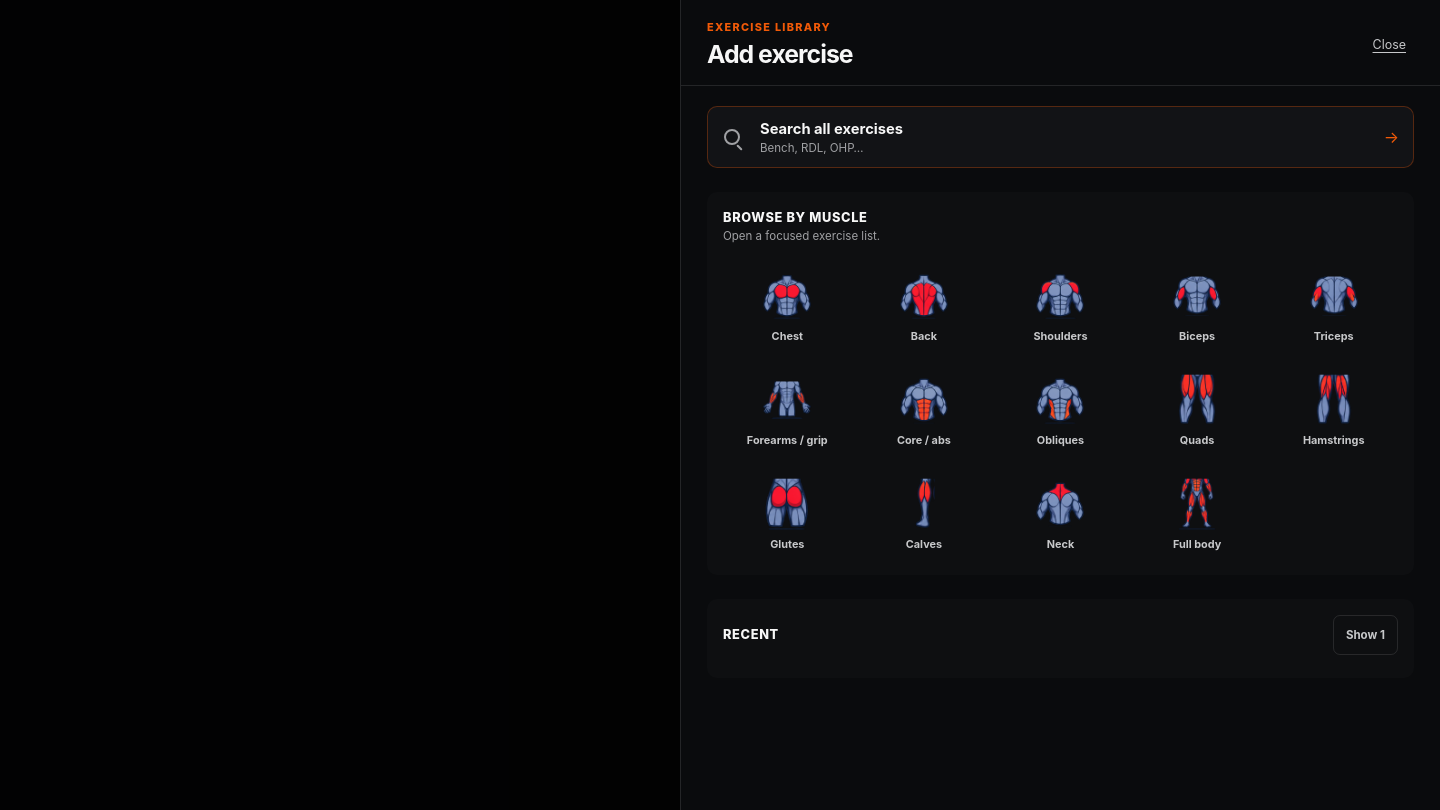
Scenario: ExercisePicker › uses icon-and-label muscle navigation while keeping workout type filtering on detail screens
expect the button with aria-label "Open Obliques exercises" is shown: met, box [996,363,1125,455]
What coordinates should you click on to do the following:
click the button with aria-label "Open Chest exercises"
I would click on:
 (787, 305)
Its box is [723,259,852,351].
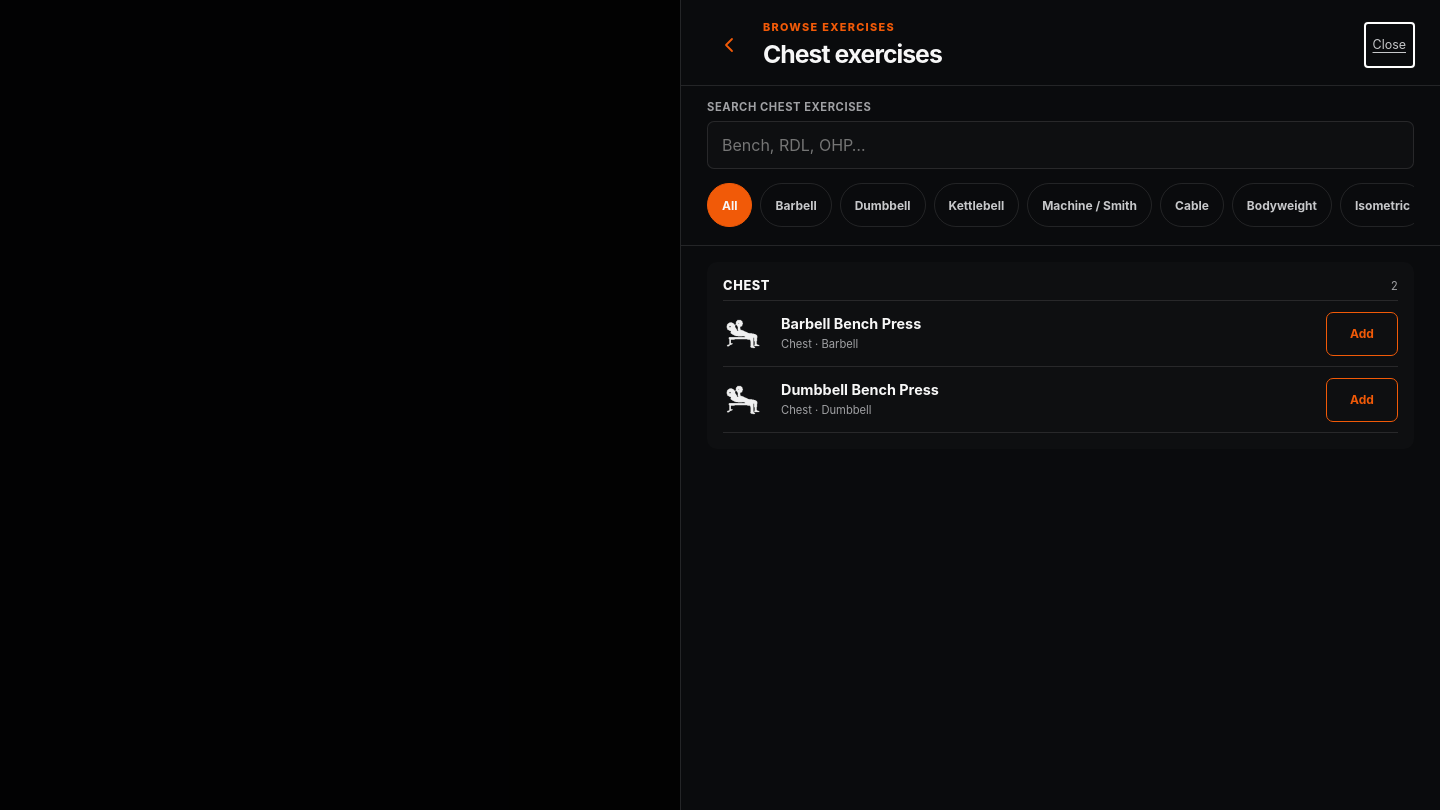
expect the element named "Filter by workout type" is shown: met, box [707,181,1414,229]
